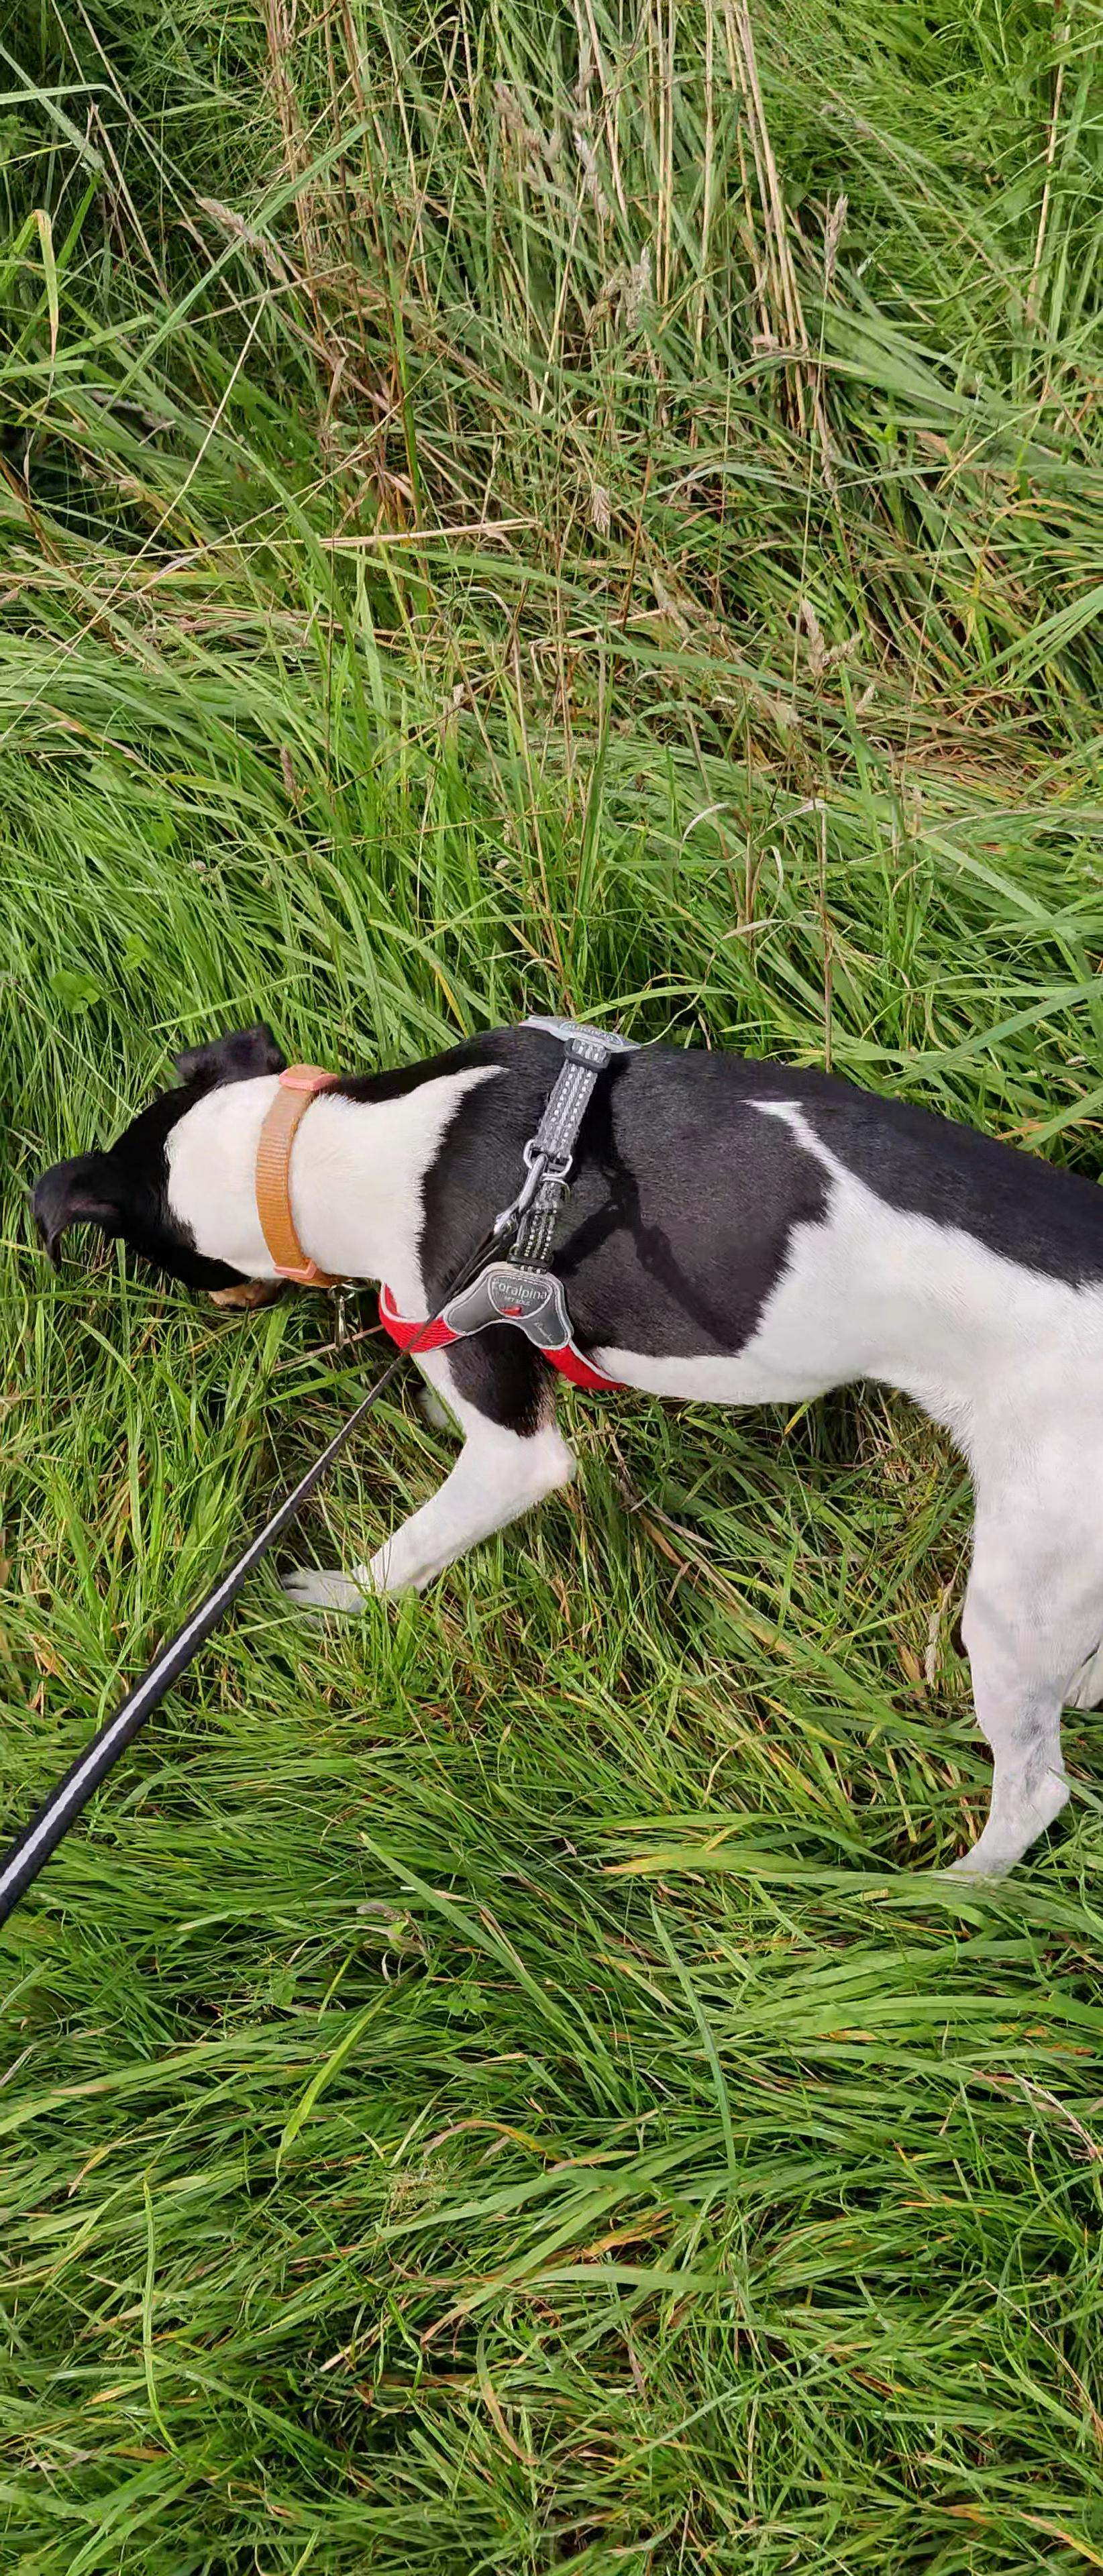Dog: (26, 1015, 1103, 1907)
